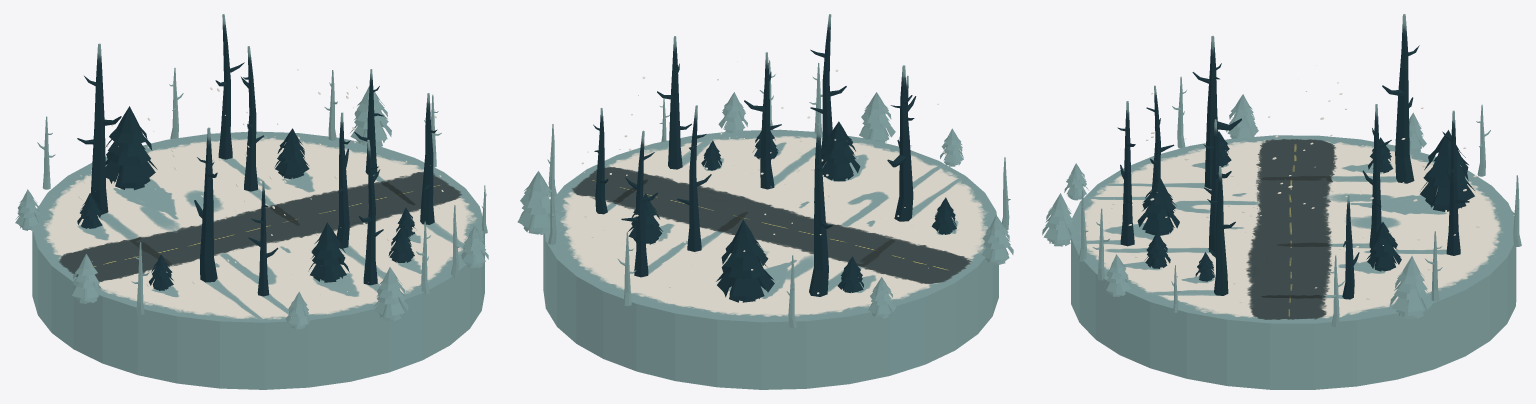
File: snowy_road_v2.glb
3 views of the same model, side by side, from view 1: azimuth 30°, elevation 25°; view 2: azimuth 150°, elevation 25°; view 3: azimuth 270°, elevation 25° (orthographic).
Visible parts, largest first — view 1: snowyroad_mesh; view 2: snowyroad_mesh; view 3: snowyroad_mesh.
Part boxes in pixels (<box>): snowyroad_mesh: <box>15,14,488,389</box>; snowyroad_mesh: <box>517,14,1013,389</box>; snowyroad_mesh: <box>1042,14,1521,389</box>.
Bounding box in the file's own units: 22.48 × 12.09 × 22.71.
Materials: 2 (2 with a texture image).
